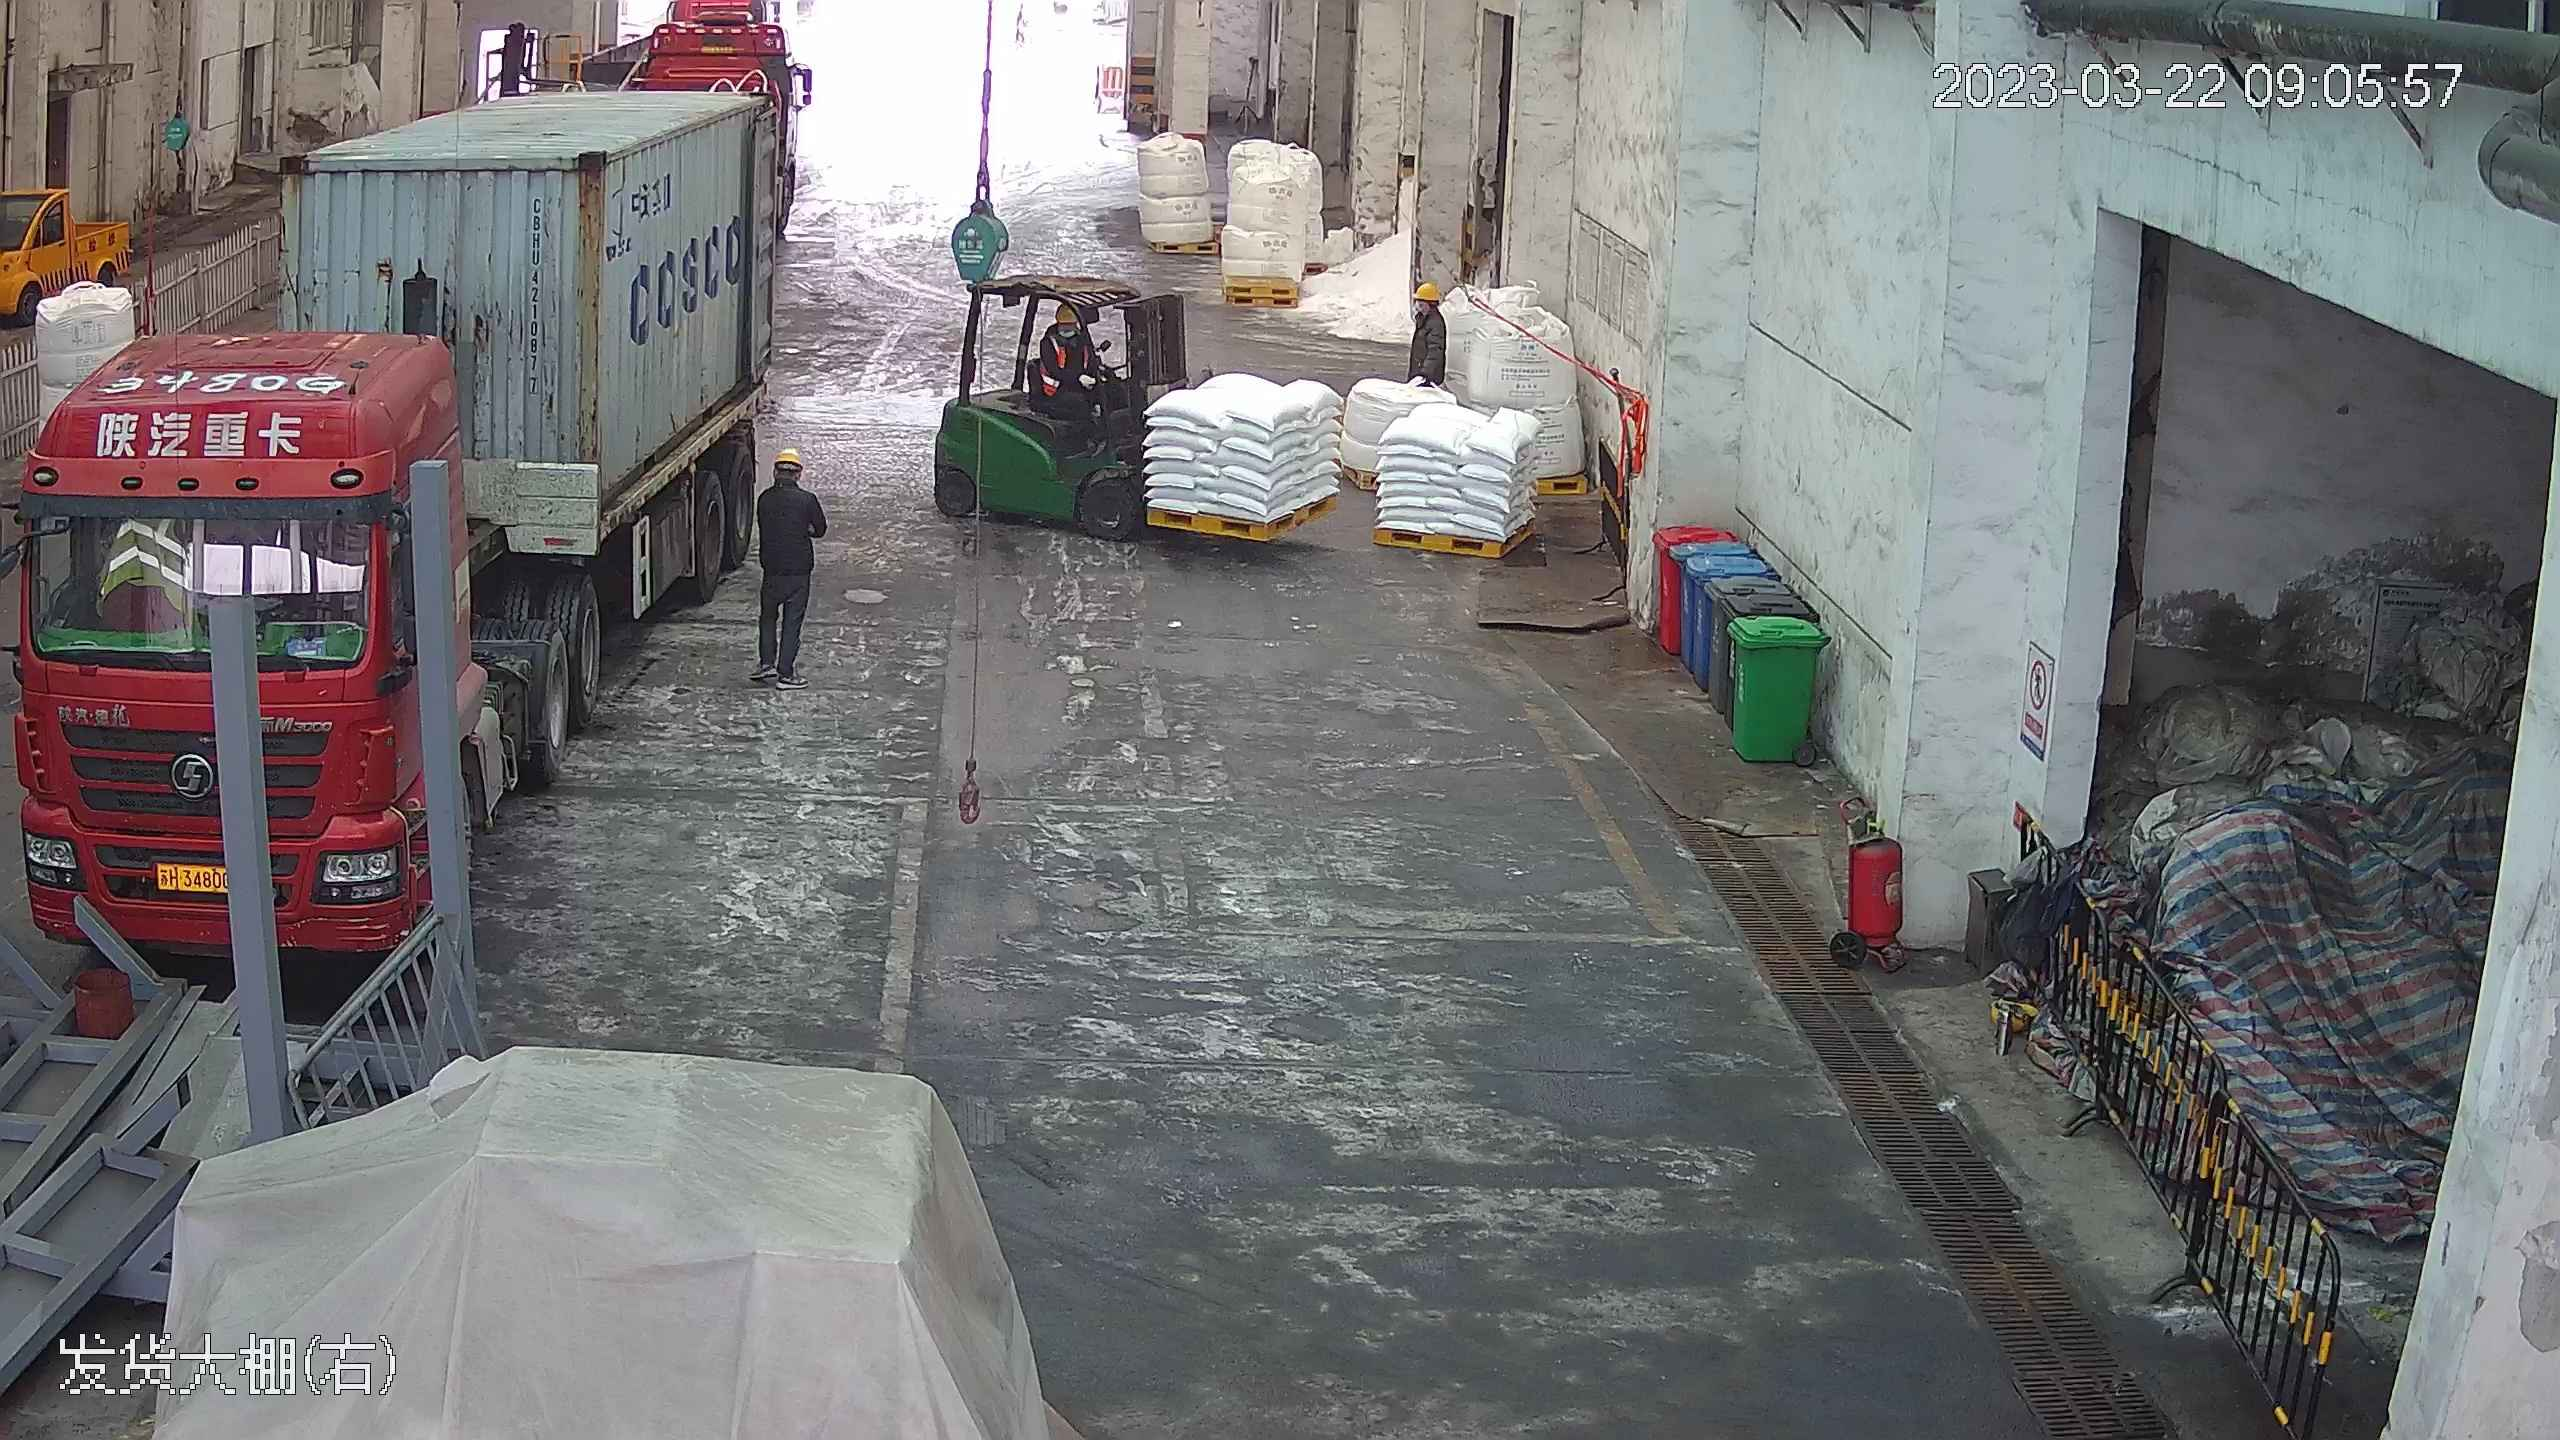head: (757, 444, 821, 517), (1403, 277, 1450, 354), (1040, 302, 1092, 359)
helmet: (770, 445, 804, 471), (1413, 277, 1445, 304), (1051, 298, 1083, 322)
people: (746, 440, 827, 685), (1031, 299, 1114, 448)
truck: (14, 30, 788, 974)
